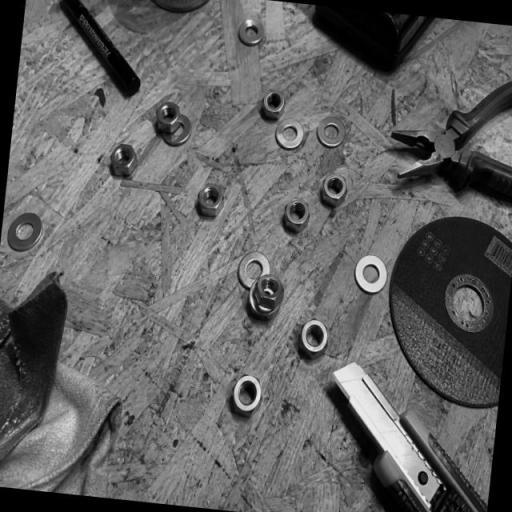Nut: (250, 273, 284, 318), (230, 374, 263, 415), (298, 318, 330, 358), (195, 182, 226, 220), (319, 173, 349, 209), (281, 198, 310, 235), (109, 141, 137, 179), (259, 91, 286, 121), (154, 99, 181, 129)
Washer: (353, 254, 390, 295), (7, 212, 43, 253), (237, 253, 271, 291), (157, 116, 191, 146), (316, 116, 346, 149), (274, 120, 305, 151), (237, 18, 263, 47)
